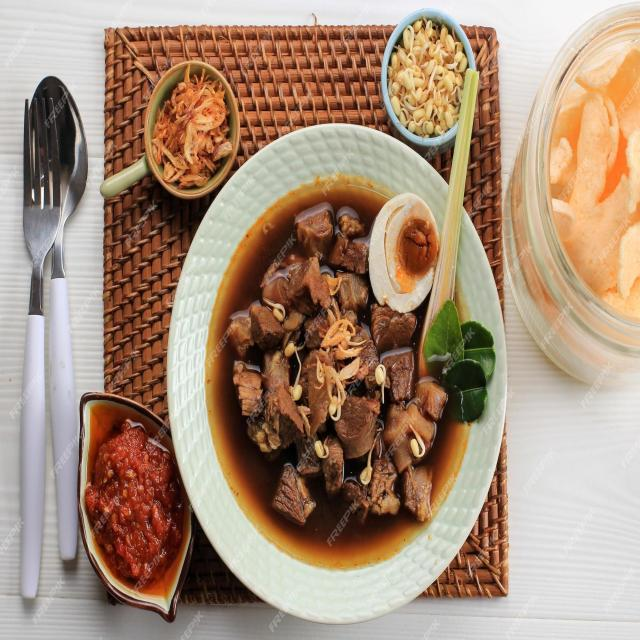Rawon: (217, 192, 444, 539)
